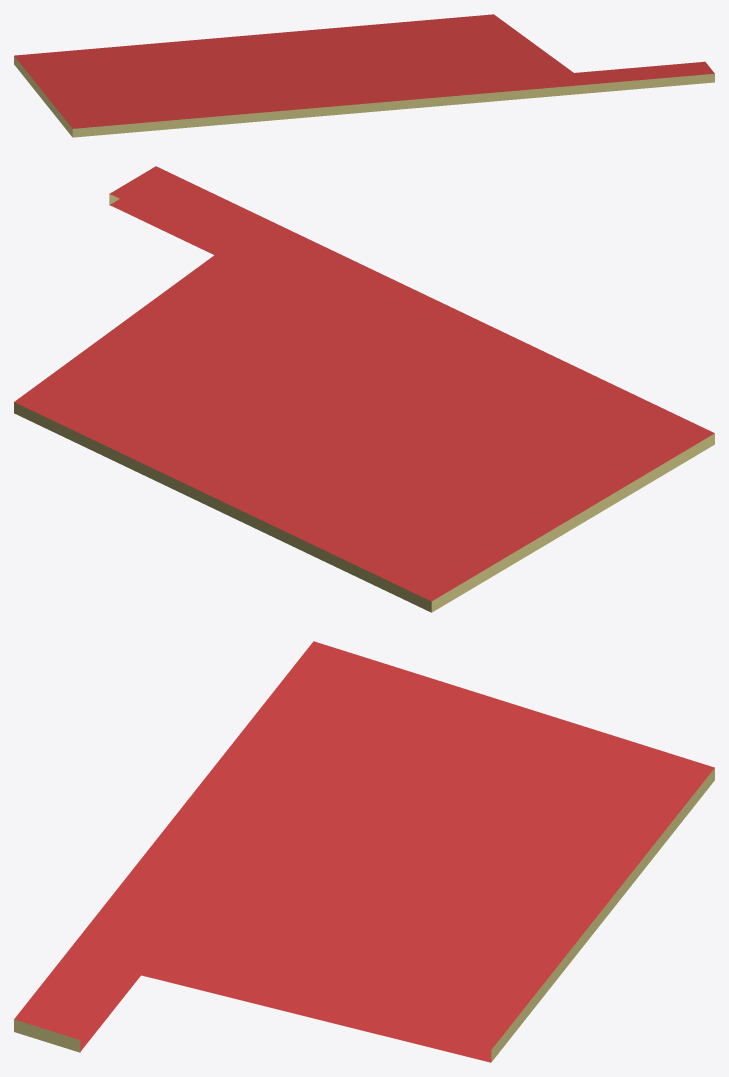
3 views of the same model, one above another, from view 1: azimuth 30°, elevation 25°; view 2: azimuth 150°, elevation 25°; view 3: azimuth 270°, elevation 25° (orthographic). The views are drawn at different scales.
Bounding box in the file's own units: 6.59 × 5.04 × 0.653.
